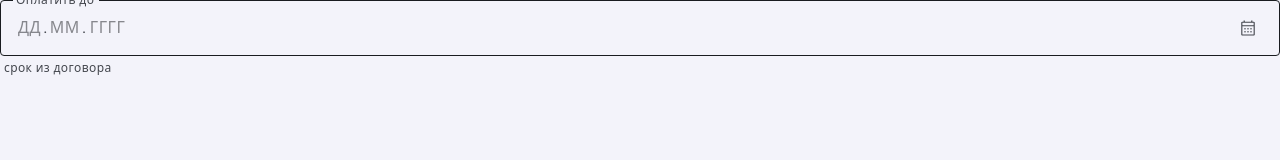
Test case: DateInput: очистка › недописанное поверх пустого стирается крестиком — вместе с ошибкой
The image size is (1280, 160).
Type "18" into the field with placeholder "ДД" at (30, 28), box [16, 16, 43, 40]
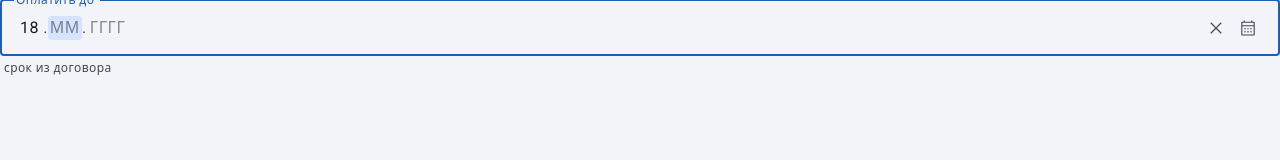
Leave the field with placeholder "ММ", box [48, 16, 82, 40]
Wait 200 ms
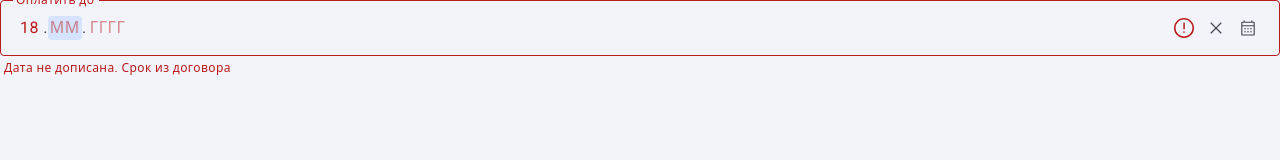
expect the text "Дата не дописана. Срок из договора" is shown: met, box [4, 61, 231, 75]
Click the button named "Очистить дату" at (1216, 28), box [1200, 12, 1232, 44]
Wait 200 ms
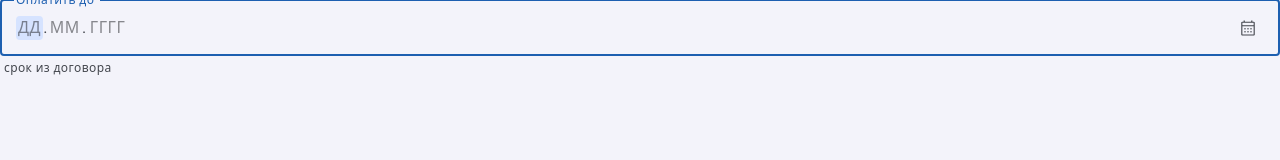
expect the text "срок из договора" is shown: met, box [4, 61, 112, 75]
expect the field with placeholder "ДД" is empty: met, box [16, 16, 43, 40]
expect the text "Дата не дописана" is gone: met
